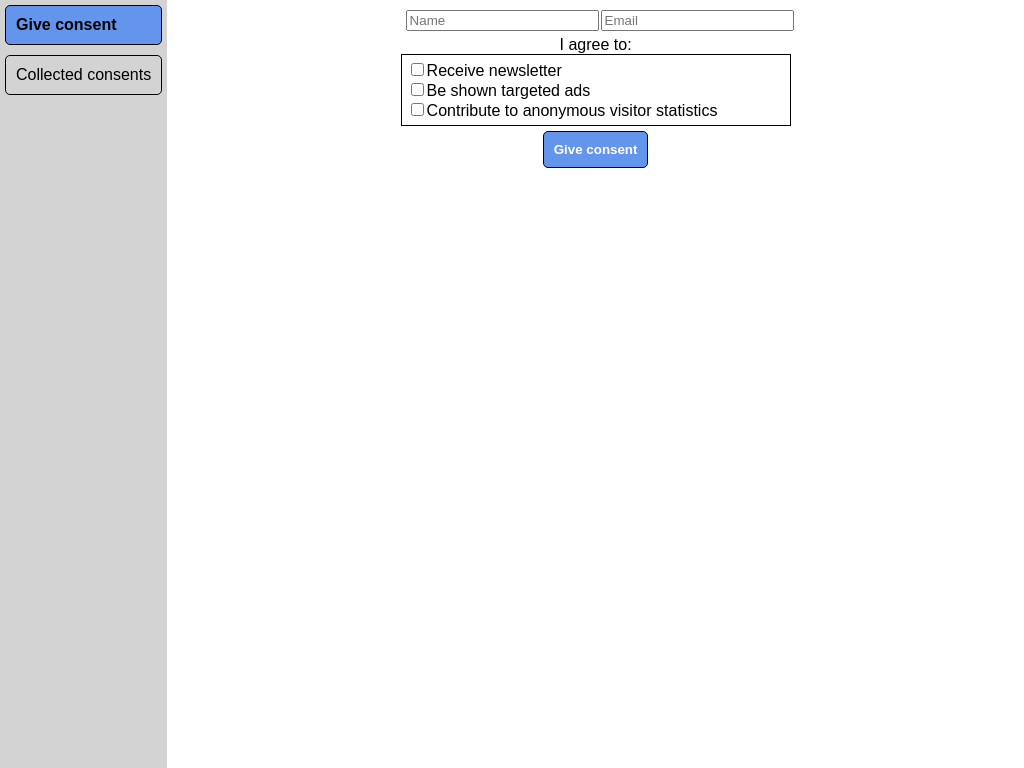
Test: renders enter consent error
Expected: the field with placeholder "Email" is shown, [601,10,794,31]
Expected: the number of checkboxes is 3, [411,63,424,76]; [411,83,424,96]; [411,103,424,116]
Type "test" into the field with placeholder "Name" at (502, 20), box [406,10,599,31]
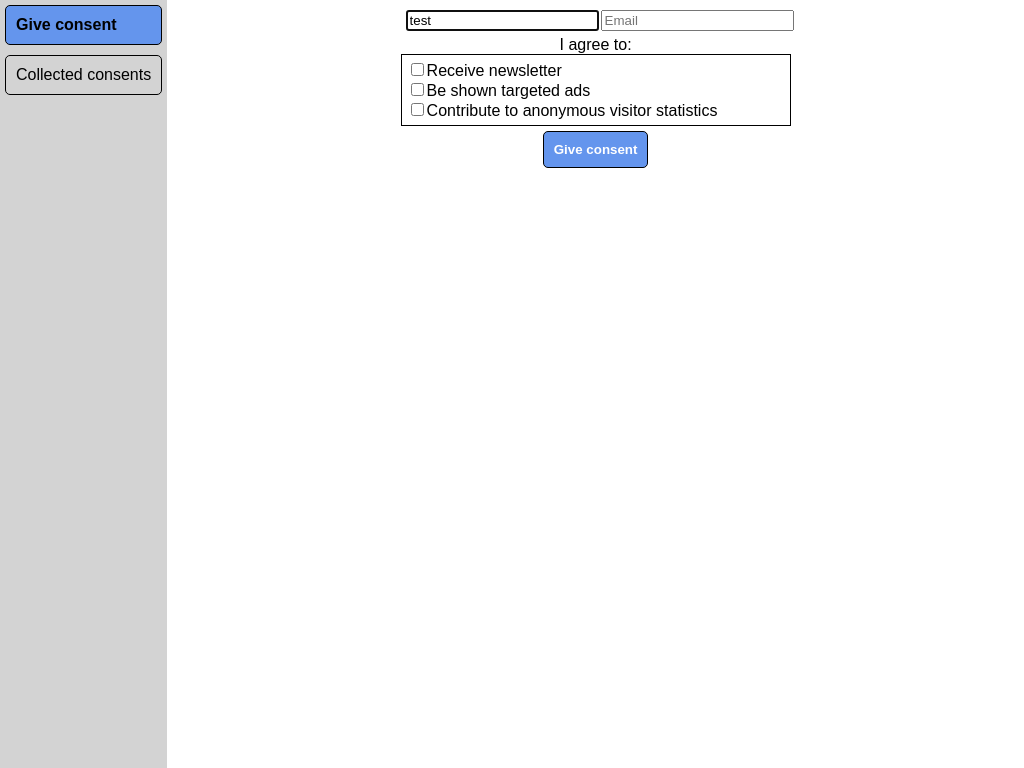
Type "no_email" into the field with placeholder "Email" at (697, 20), box [601,10,794,31]
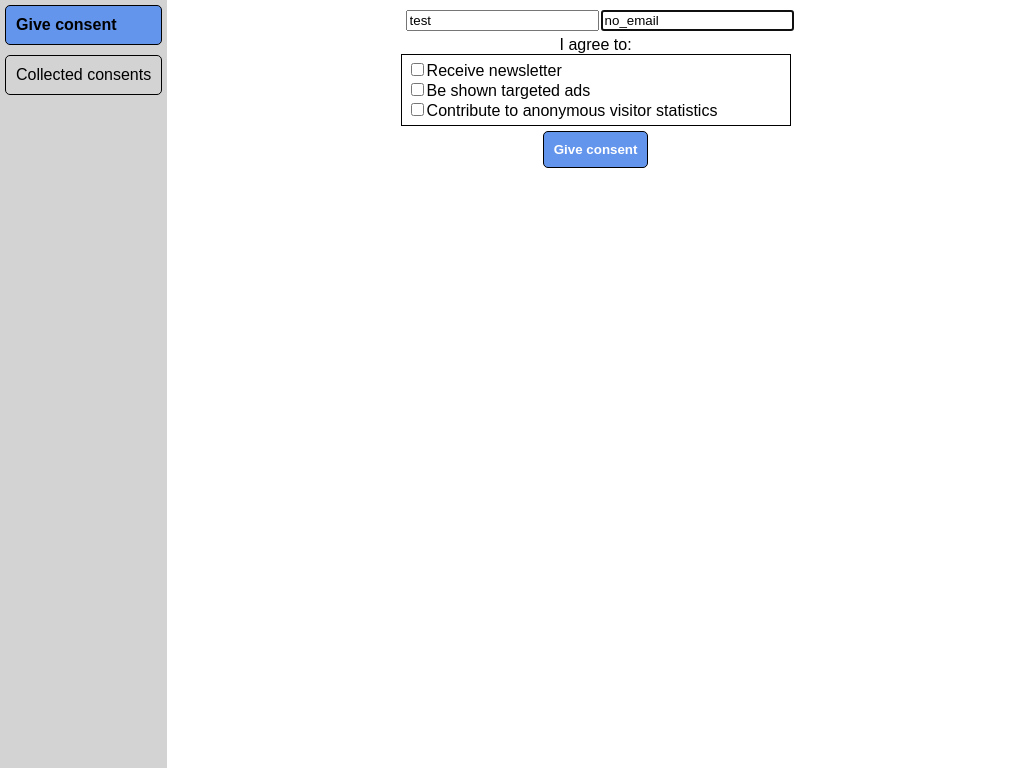
Click the checkbox labelled "Receive newsletter" at (417, 70), box [411,63,424,76]
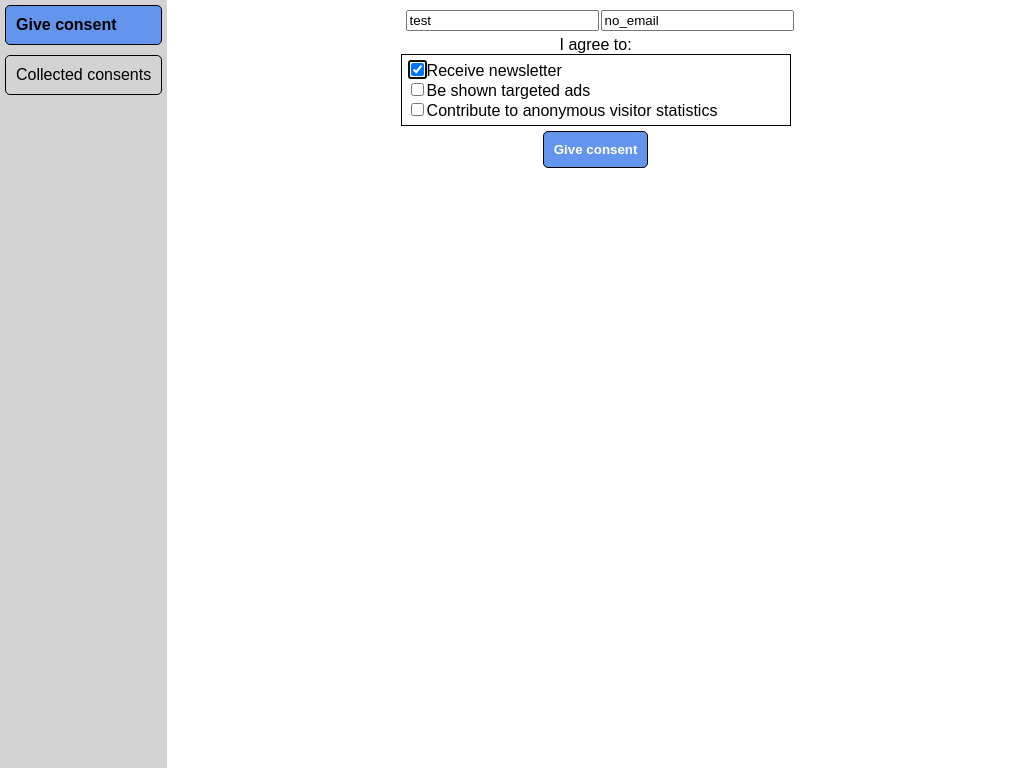
Click the checkbox labelled "Be shown targeted ads" at (417, 90), box [411,83,424,96]
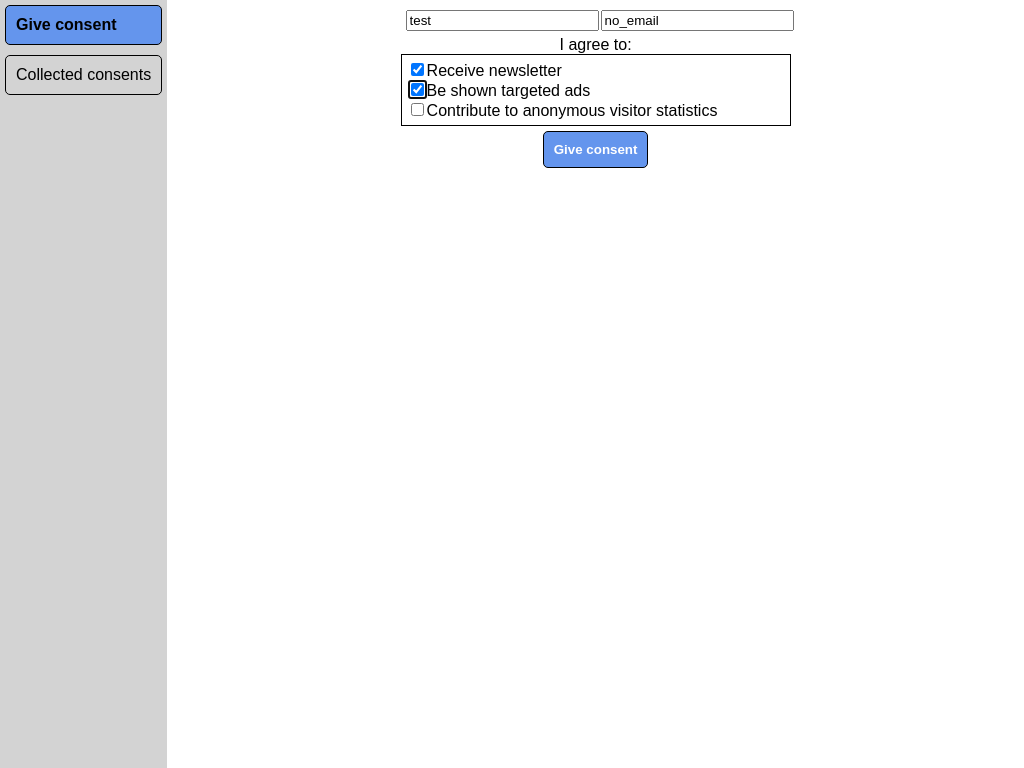
Click the checkbox labelled "Contribute to anonymous visitor statistics" at (417, 110), box [411,103,424,116]
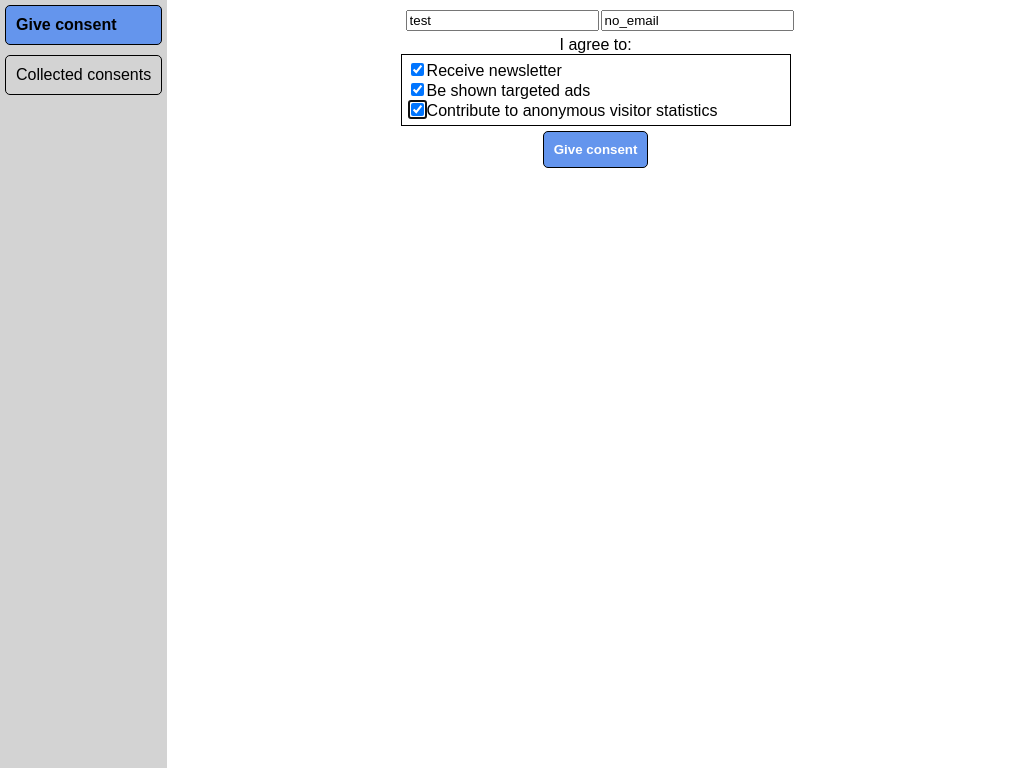
Click the button "Give consent" at (596, 150), box [543,131,648,168]
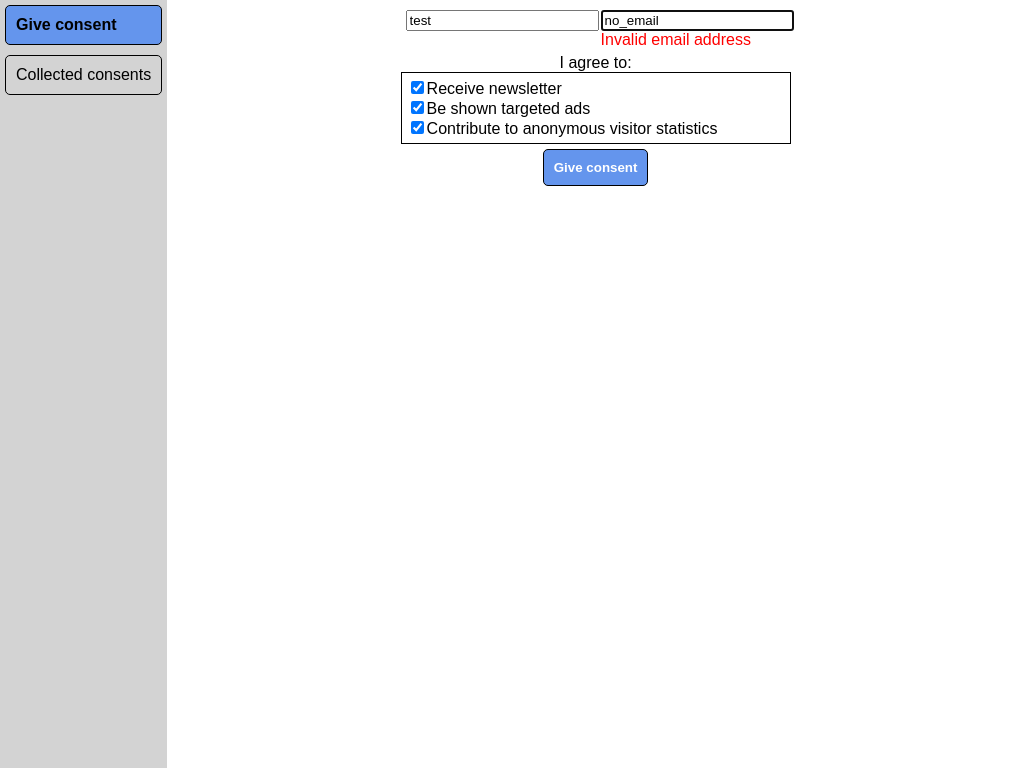
Expected: the text "Invalid email address" is shown, [601,31,751,48]
